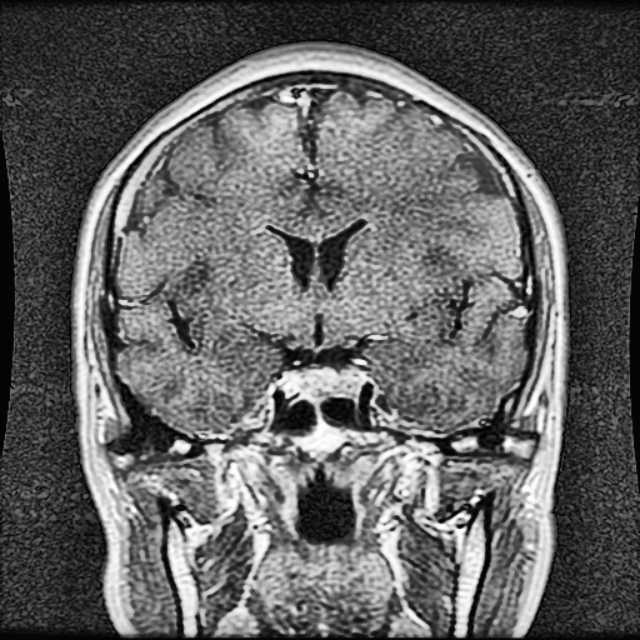Pituitary: (274, 364, 364, 403)
